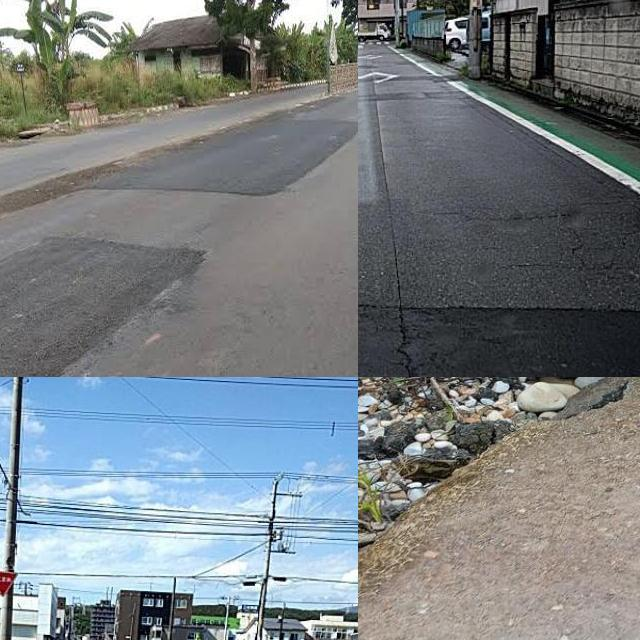Pinggir: (358, 377, 640, 631)
Sambungan: (358, 95, 640, 310), (0, 235, 220, 377), (93, 118, 358, 200)
